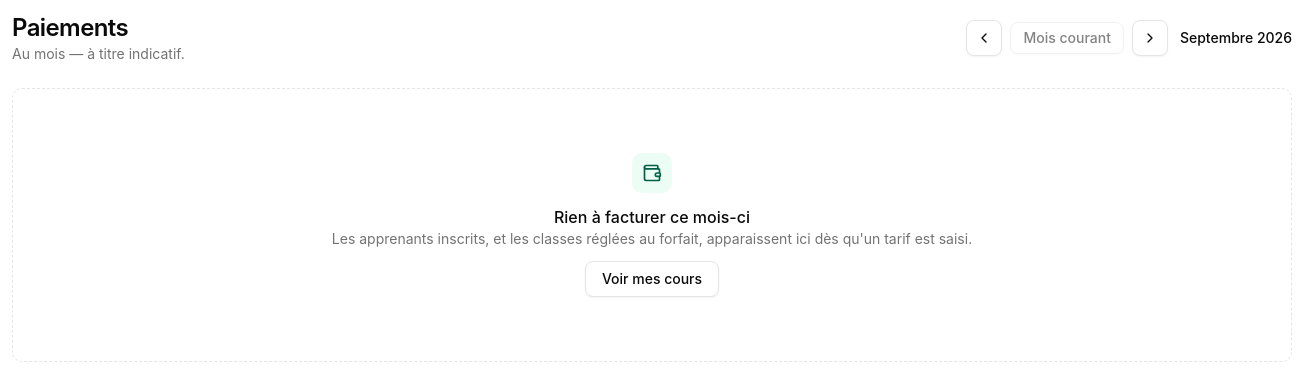
PaiementsPage › démarre sur le mois courant et navigue d’un mois à l’autre
Expected: the button "Mois courant" is disabled, [1010,22,1124,54]
Step 1. Click the button named "mois suivant" → click(1150, 38), box [1132,20,1168,56]
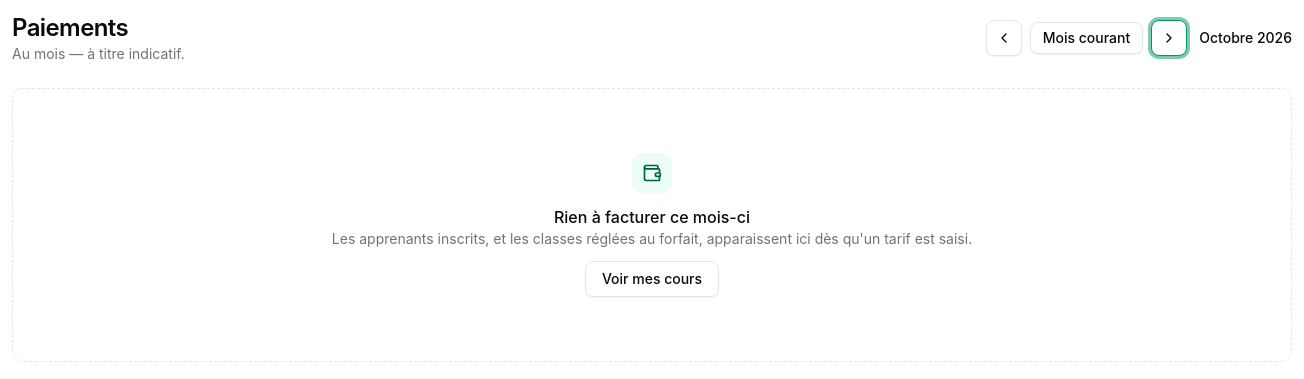
Step 2. Click the button named "mois précédent" → click(1004, 38), box [986,20,1022,56]
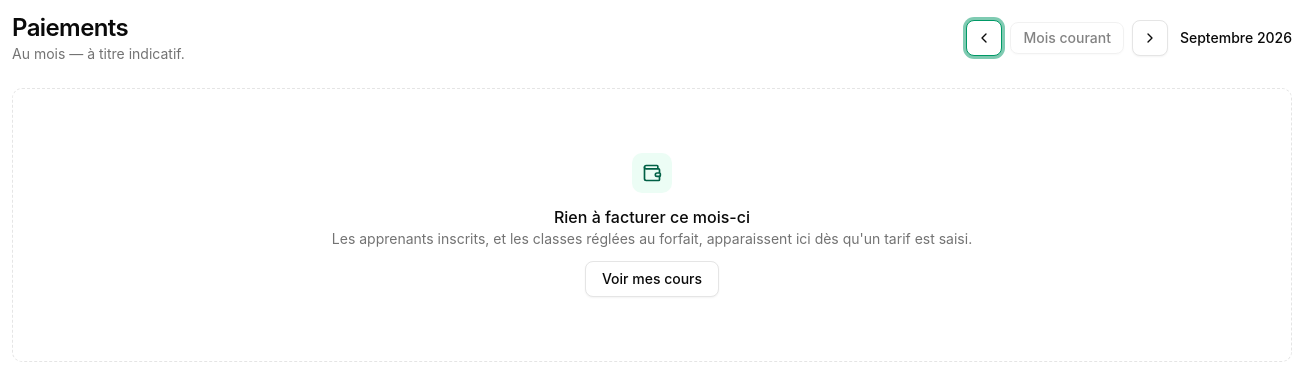
Step 3. Click the button named "mois précédent" → click(984, 38), box [966,20,1002,56]
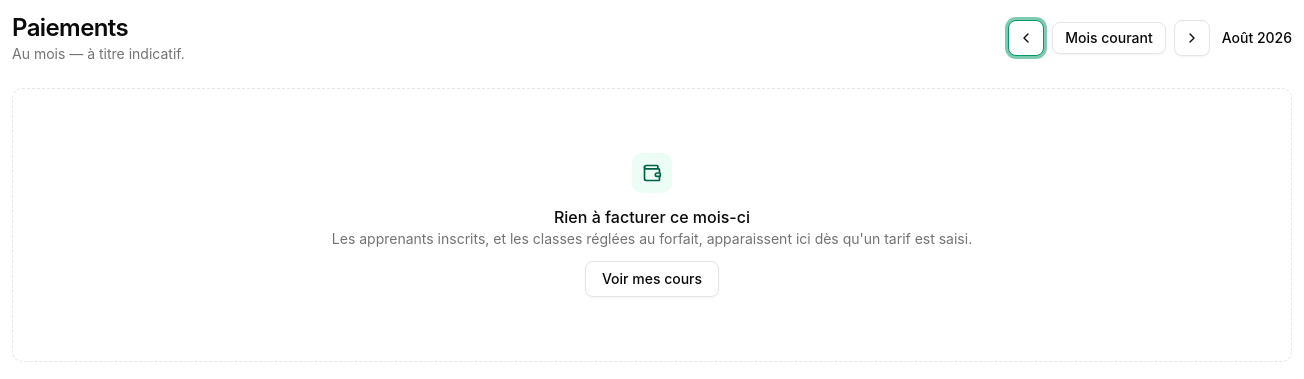
Result: the button "Mois courant" is enabled at [1052,22,1166,54]
